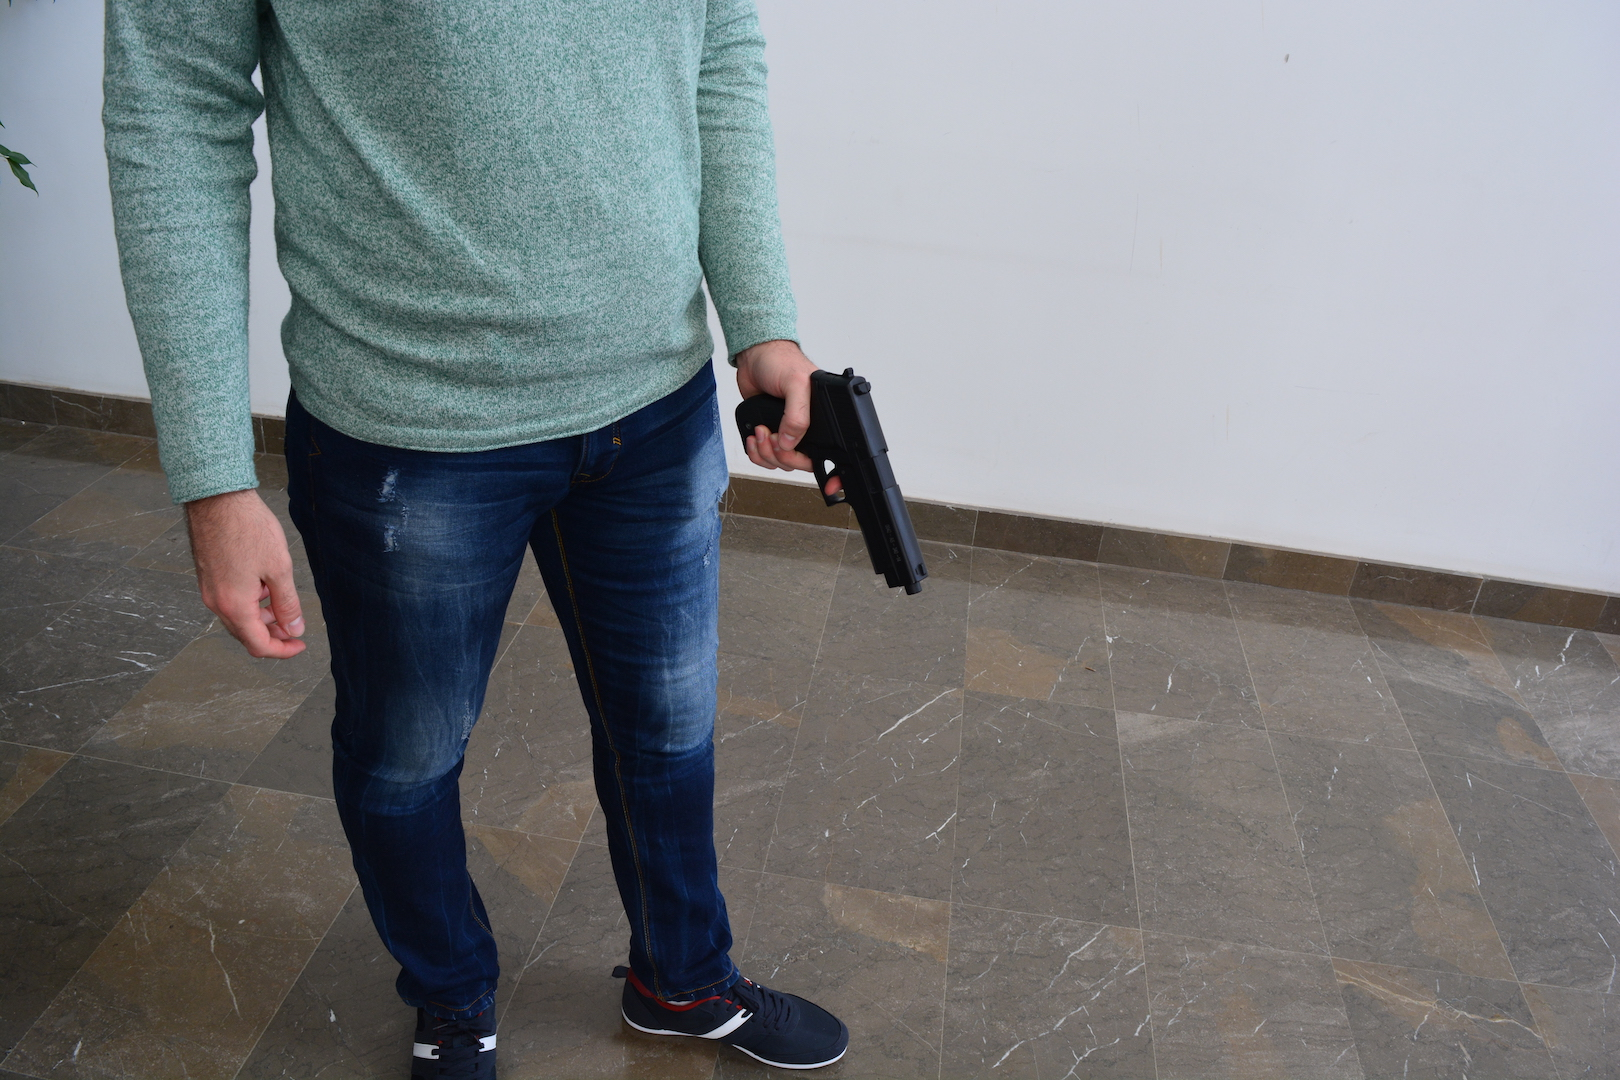pistol: (734, 366, 929, 595)
